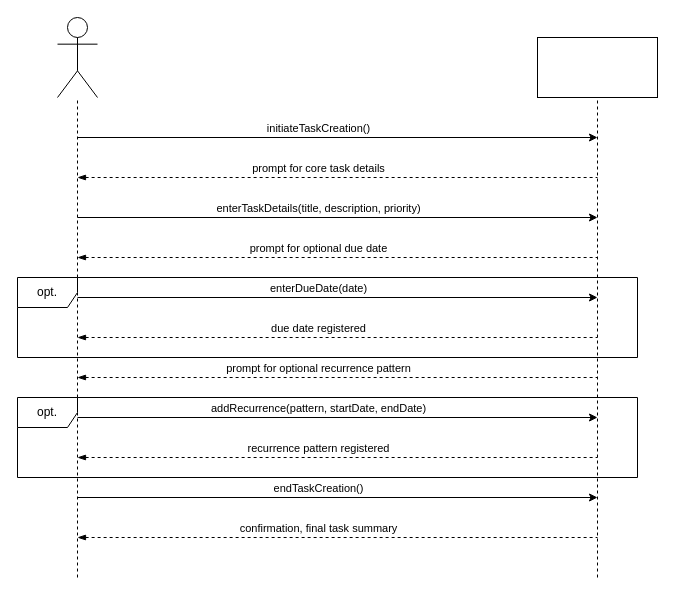
The diagram is 675 pixels wide and 596 high, and some of its shapes have lost their labels. The shapes that lost their labels are listed below. From the top down, each one's centre as x and y in pixels, then its label:
point 77,57: : User
point 597,67: : System
